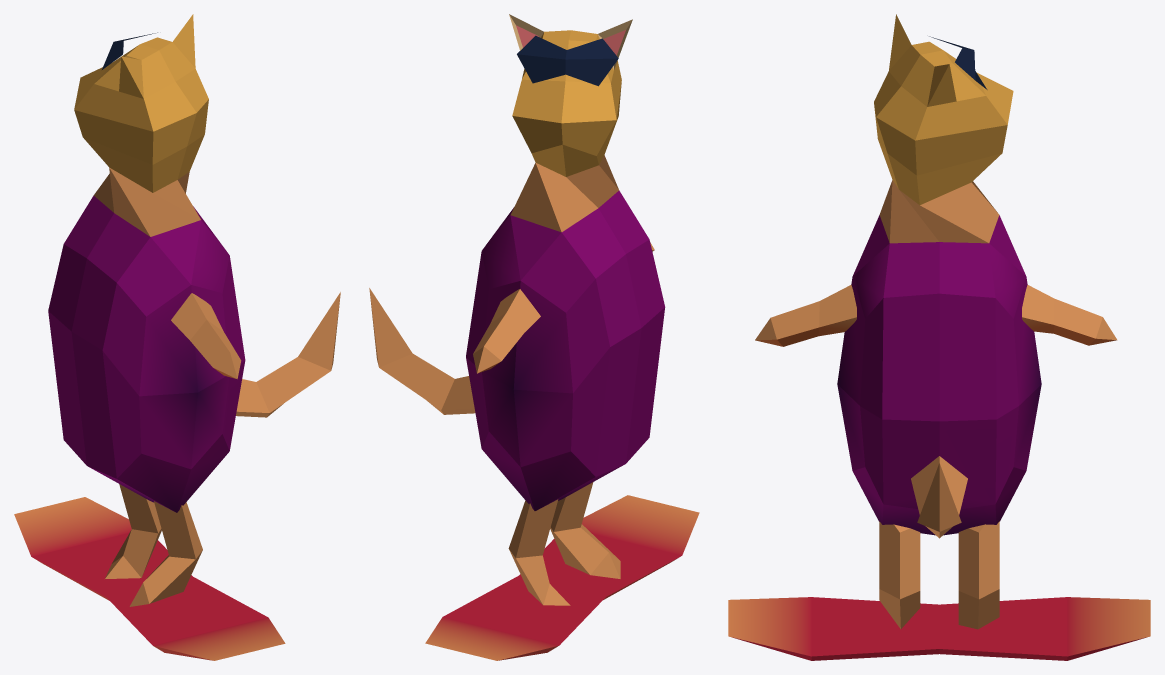
Rendered from SkateboardCat.glb.
3 views of the same model, side by side, from view 1: azimuth 30°, elevation 25°; view 2: azimuth 150°, elevation 25°; view 3: azimuth 270°, elevation 25° (orthographic). The views are drawn at different scales.
Visible parts, largest first — view 1: SkateboardCat, Skateboard; view 2: SkateboardCat, Skateboard; view 3: SkateboardCat, Skateboard.
Boxes of the visible parts, left/top/right/bottom form: SkateboardCat: left=48, top=14, right=340, bottom=606; Skateboard: left=14, top=497, right=285, bottom=660; SkateboardCat: left=369, top=14, right=665, bottom=605; Skateboard: left=425, top=495, right=699, bottom=660; SkateboardCat: left=755, top=14, right=1117, bottom=629; Skateboard: left=728, top=597, right=1150, bottom=660.
Bounding box in the file's own units: 1.01 × 2.03 × 1.3.
